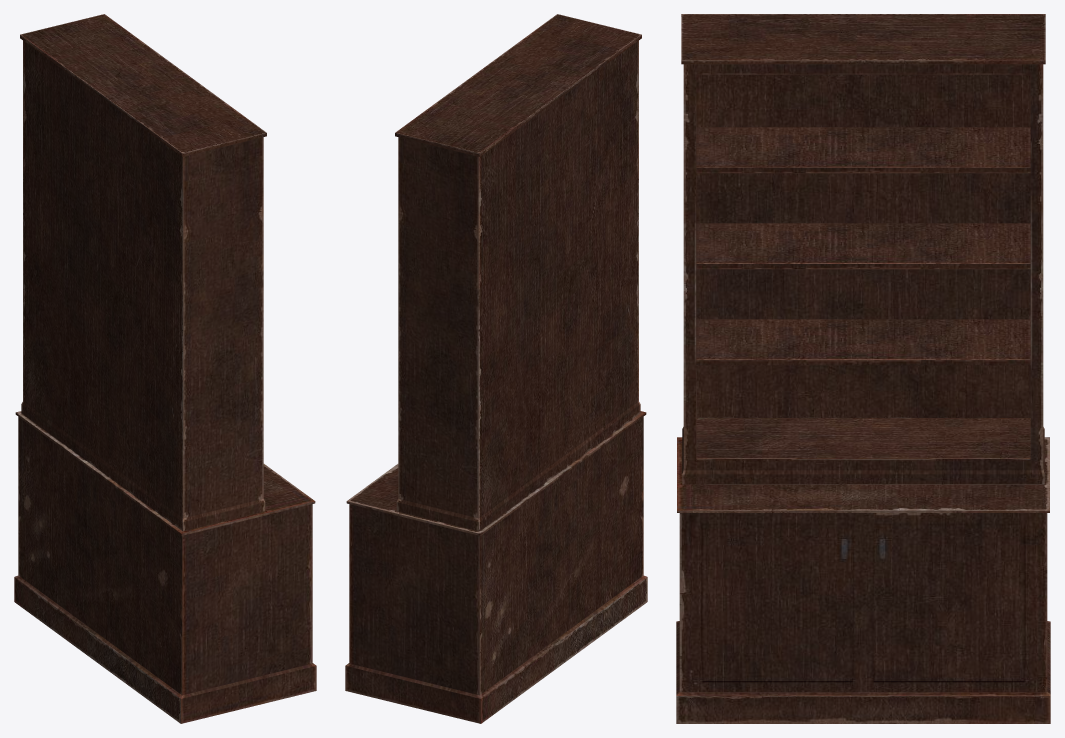
Rendered from shkaf dlia knig.fbx.
3 views of the same model, side by side, from view 1: azimuth 30°, elevation 25°; view 2: azimuth 150°, elevation 25°; view 3: azimuth 270°, elevation 25° (orthographic). The views are drawn at different scales.
Visible parts, largest first — view 1: Cube; view 2: Cube; view 3: Cube.
Boxes of the visible parts, <box> form: Cube: <box>14,14,316,723</box>; Cube: <box>345,14,647,723</box>; Cube: <box>676,14,1050,723</box>.
Size of the model in its own units: 106 by 424 by 225.
